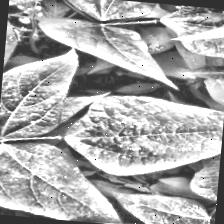Bean Rust: (64, 90, 224, 182), (34, 19, 184, 89), (0, 141, 125, 224), (0, 41, 84, 151), (120, 188, 217, 224), (166, 5, 224, 57)
